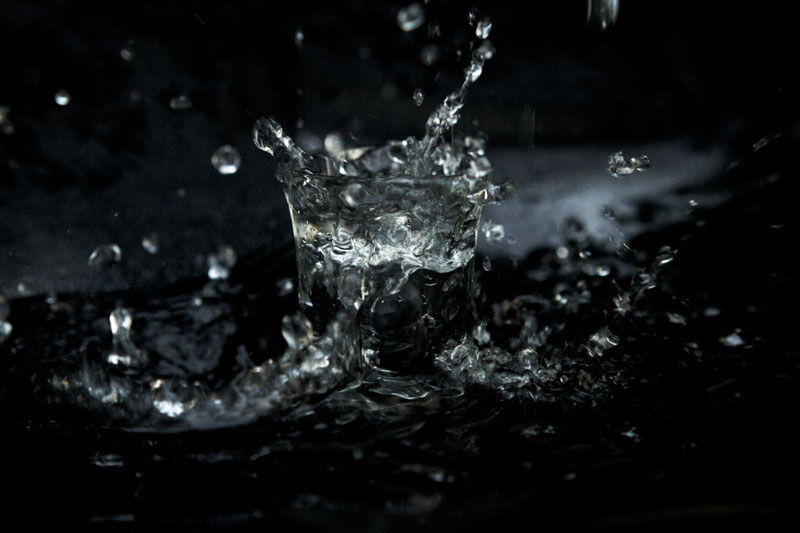glass of water: (282, 147, 486, 357)
